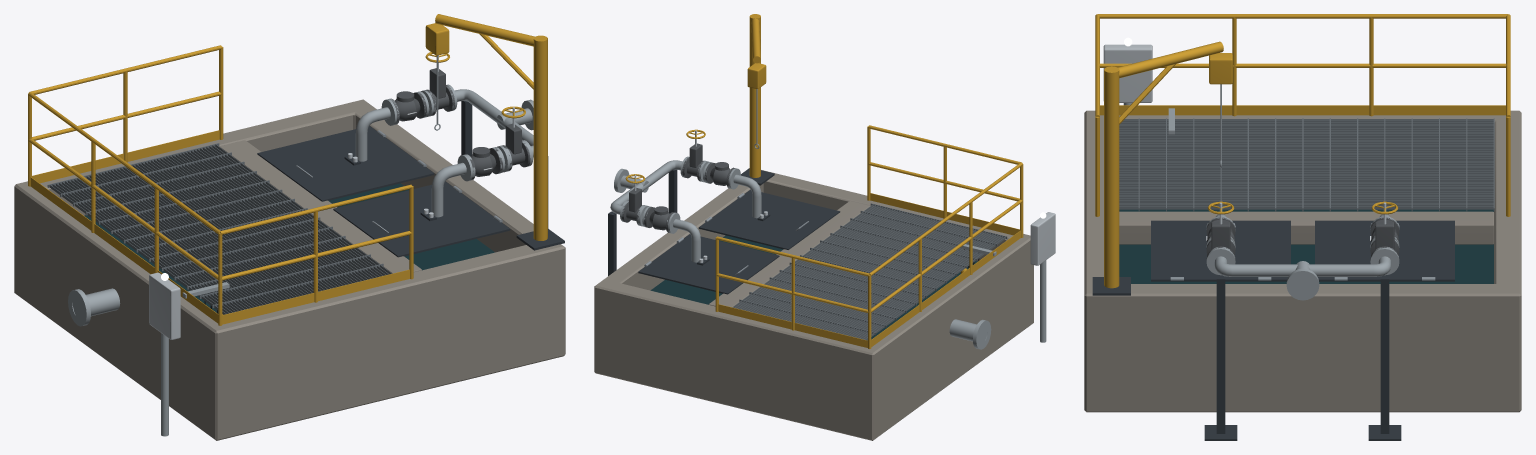
Rendered from sump.glb.
The picture shows the model from 3 angles, left to right: view 1: azimuth 30°, elevation 25°; view 2: azimuth 150°, elevation 25°; view 3: azimuth 270°, elevation 25°; orthographic projection. The views are drawn at different scales.
Visible parts, largest first — view 1: BODY_chamber, grating, BODY_rail, hatches, BODY_davit, valves, pipes, BODY_panel, WATER_surface, inlet, BODY_supports; view 2: BODY_chamber, grating, BODY_rail, hatches, valves, BODY_davit, pipes, BODY_panel, WATER_surface, BODY_supports, inlet; view 3: BODY_chamber, grating, hatches, BODY_rail, BODY_davit, WATER_surface, BODY_supports, valves, pipes, BODY_panel.
Boxes of the visible parts, bbox=[...] form: BODY_chamber: bbox=[14, 99, 565, 440]; grating: bbox=[47, 143, 392, 314]; BODY_rail: bbox=[28, 45, 413, 325]; hatches: bbox=[257, 126, 510, 257]; BODY_davit: bbox=[425, 14, 564, 250]; valves: bbox=[381, 52, 533, 181]; pipes: bbox=[355, 89, 533, 217]; BODY_panel: bbox=[149, 272, 180, 436]; WATER_surface: bbox=[84, 183, 494, 313]; inlet: bbox=[68, 288, 120, 326]; BODY_supports: bbox=[461, 101, 548, 228]; BODY_chamber: bbox=[594, 170, 1033, 440]; grating: bbox=[732, 203, 1007, 340]; BODY_rail: bbox=[715, 125, 1023, 348]; hatches: bbox=[638, 189, 840, 294]; valves: bbox=[620, 129, 740, 233]; BODY_davit: bbox=[741, 14, 774, 185]; pipes: bbox=[610, 160, 761, 262]; BODY_panel: bbox=[1030, 212, 1055, 342]; WATER_surface: bbox=[650, 235, 977, 340]; BODY_supports: bbox=[608, 169, 677, 275]; inlet: bbox=[949, 319, 991, 349]; BODY_chamber: bbox=[1084, 110, 1521, 412]; grating: bbox=[1119, 118, 1494, 211]; hatches: bbox=[1151, 220, 1454, 281]; BODY_rail: bbox=[1095, 14, 1510, 216]; BODY_davit: bbox=[1092, 41, 1232, 295]; WATER_surface: bbox=[1119, 209, 1493, 283]; BODY_supports: bbox=[1204, 275, 1401, 440]; valves: bbox=[1206, 201, 1399, 275]; pipes: bbox=[1214, 214, 1391, 300]; BODY_panel: bbox=[1103, 44, 1152, 105].
Size of the model in its own units: 5.2 by 3.4 by 4.
